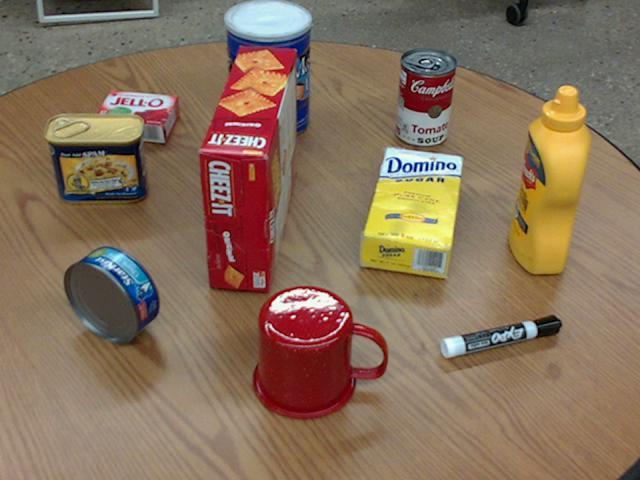cracker_box: (198, 45, 296, 292)
gelatin_box: (91, 89, 177, 140)
large_marker: (441, 315, 560, 358)
master_chef_can: (223, 0, 309, 139)
mug: (253, 285, 386, 419)
mustard_bottle: (509, 87, 589, 273)
potted_meat_can: (44, 112, 146, 201)
sugar_box: (359, 148, 462, 275)
tomato_soup_can: (395, 48, 456, 146)
tuna_fish_can: (64, 247, 160, 342)
